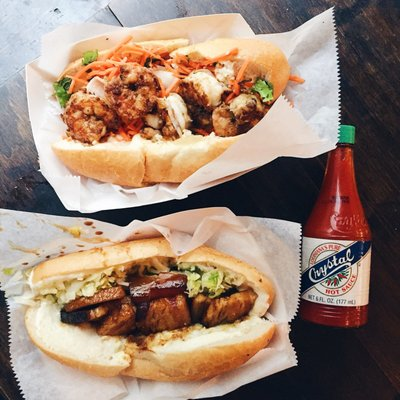soup: (8, 227, 277, 384), (45, 32, 295, 187)
